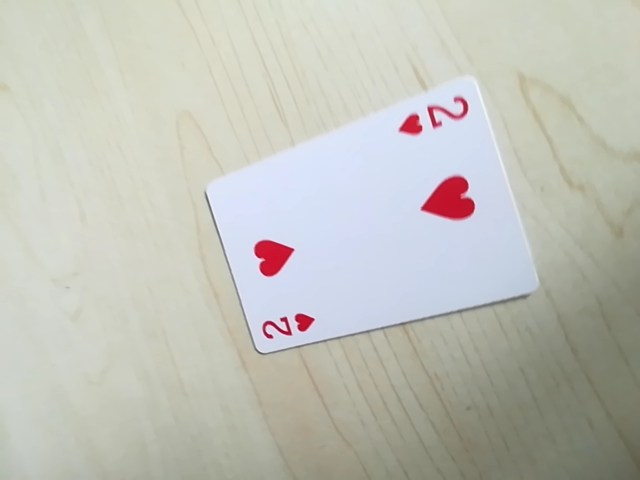hx 2: (393, 88, 479, 147), (255, 307, 321, 349)
